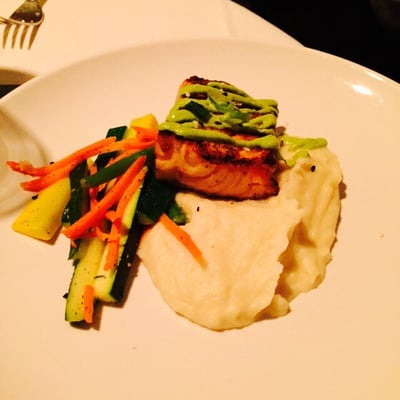soup: (126, 69, 344, 333), (153, 75, 284, 201)
